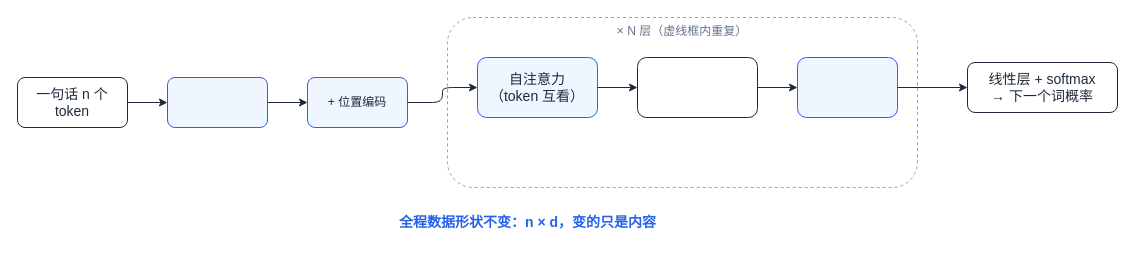
The diagram is 1135 pixels wide and 255 high, and some of its shapes have lost their labels. The shapes that lost their labels are listed below. From the top down, each one's centre as x and y in pixels, then its label:
At pixel 217 102: "查词表得向量".
At pixel 697 87: "Add & Norm （残差+归一化）".
At pixel 847 87: "FFN （各自深挖）".
